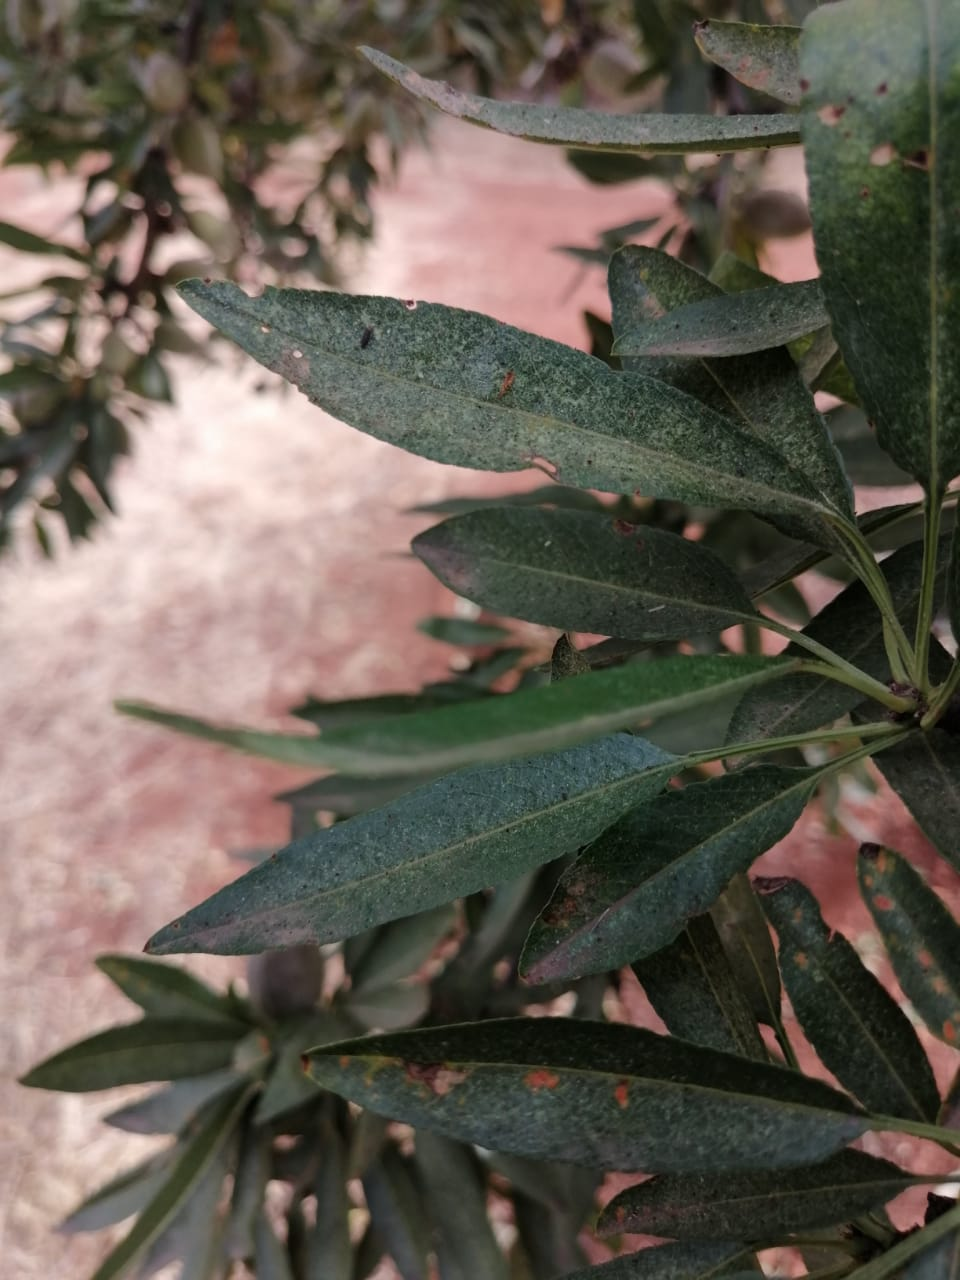acariens: (169, 275, 834, 527), (137, 730, 686, 958), (513, 757, 822, 988), (414, 500, 755, 642), (605, 273, 829, 357)
